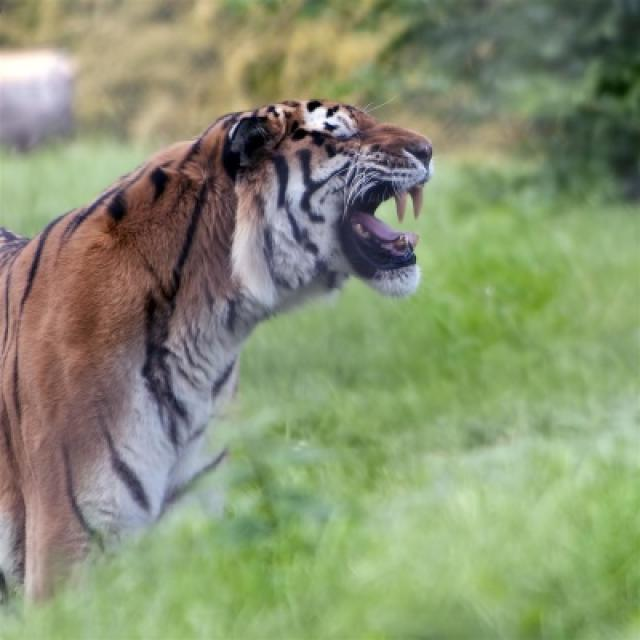Tiger: (0, 96, 432, 612)
